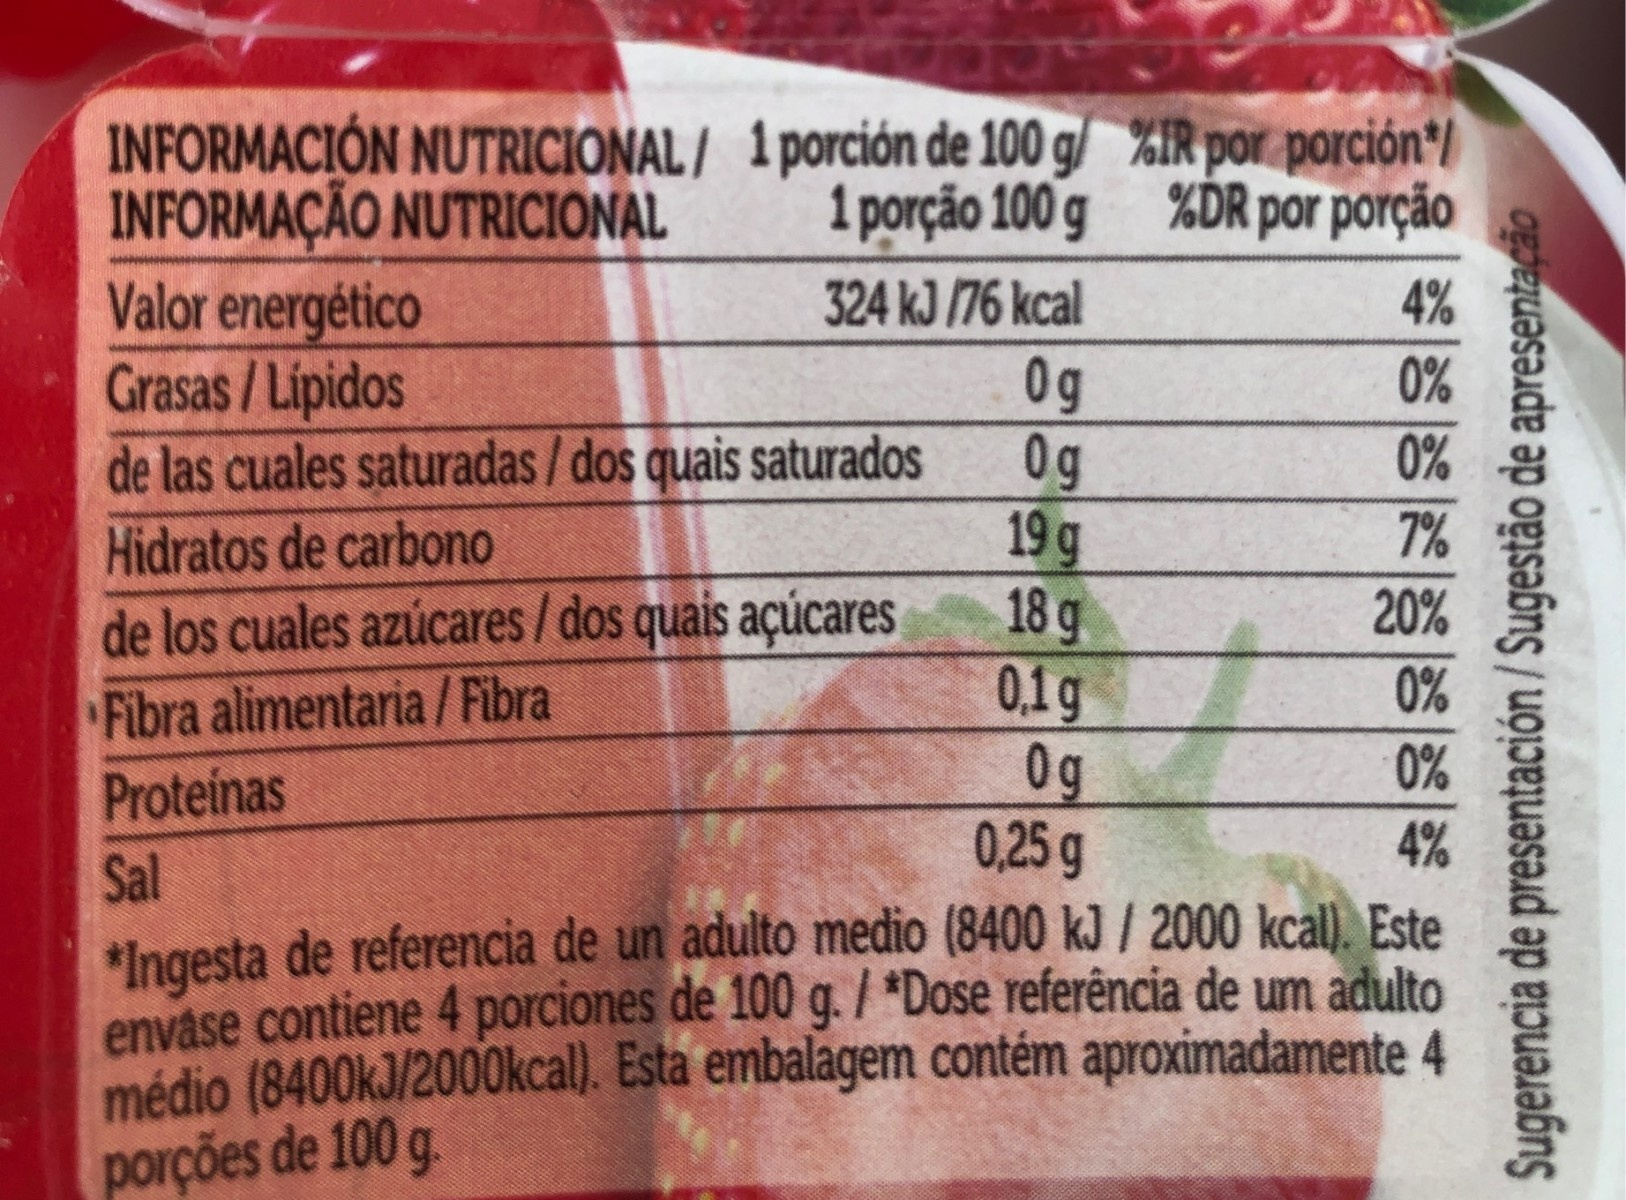column: (104, 105, 1088, 909), (1121, 103, 1457, 900)
table: (77, 87, 1591, 1200)
